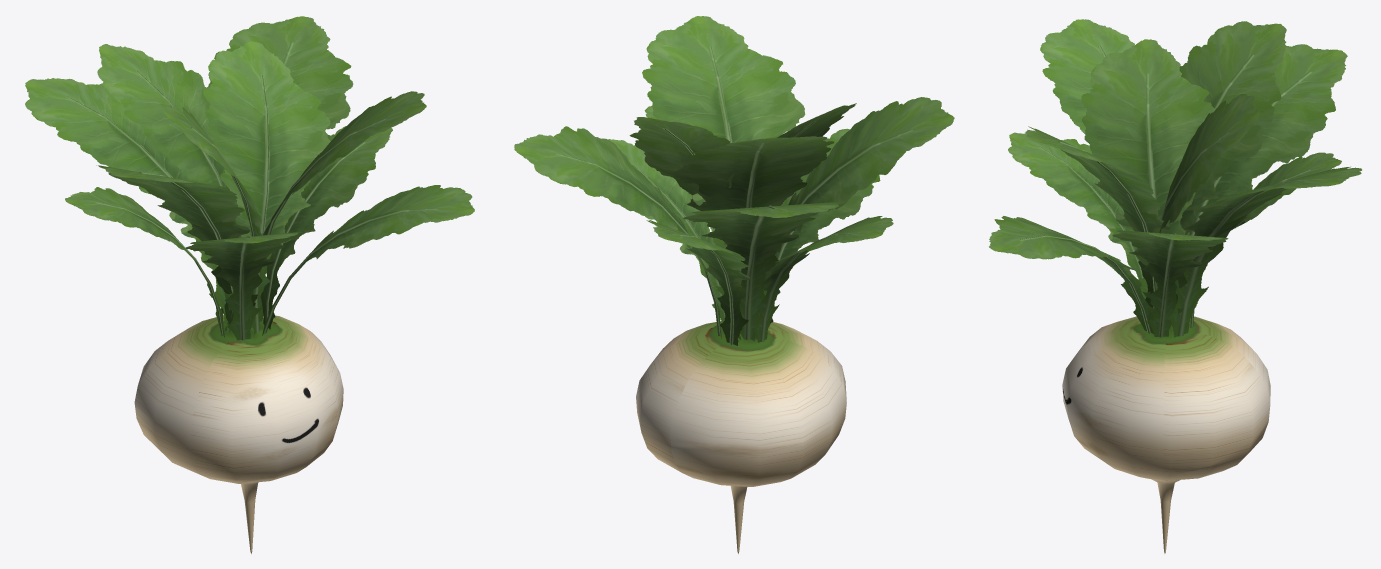
File: toufu_kabu1.fbx
The picture shows the model from 3 angles, left to right: view 1: azimuth 30°, elevation 25°; view 2: azimuth 150°, elevation 25°; view 3: azimuth 270°, elevation 25°; orthographic projection.
Parts seen in each view (by area): view 1: kabu1; view 2: kabu1; view 3: kabu1.
Part boxes in pixels (x1,y1,x2,y2): kabu1: (25,16,474,554); kabu1: (514,16,954,554); kabu1: (989,19,1361,554).
Size of the model in its own units: 39.08 by 54.1 by 38.57.
